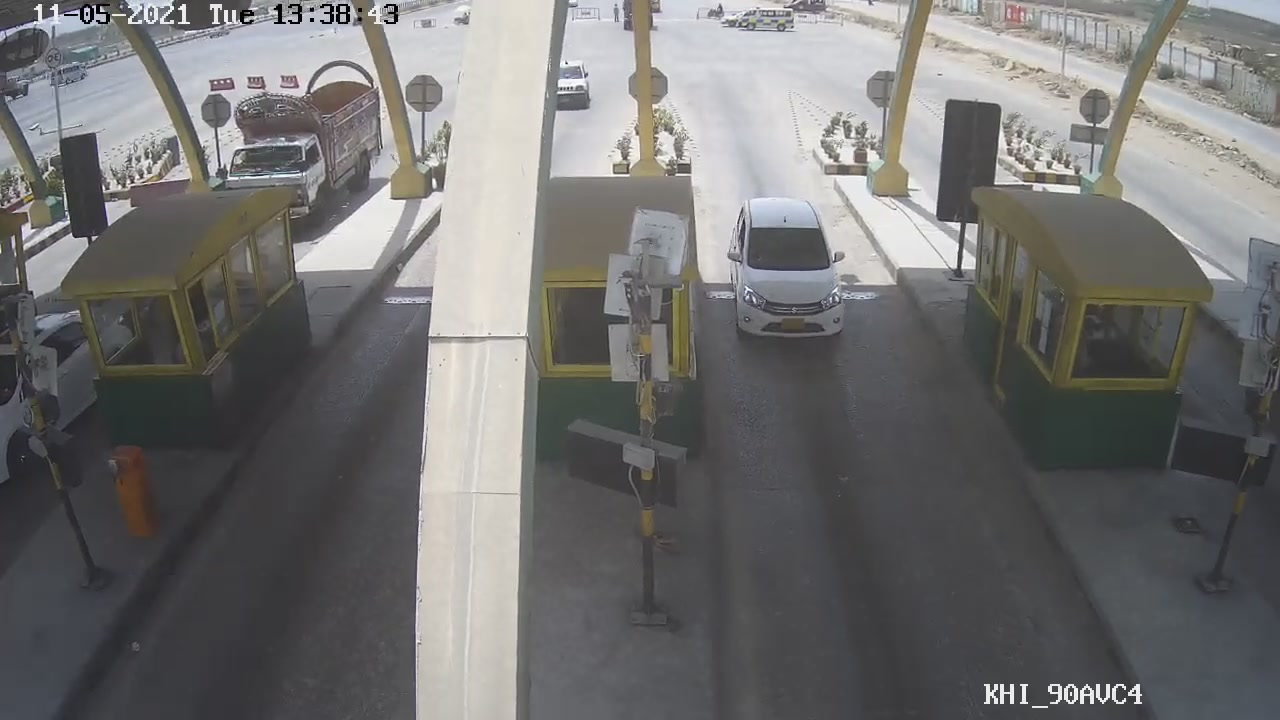F1: (726, 190, 851, 348)
